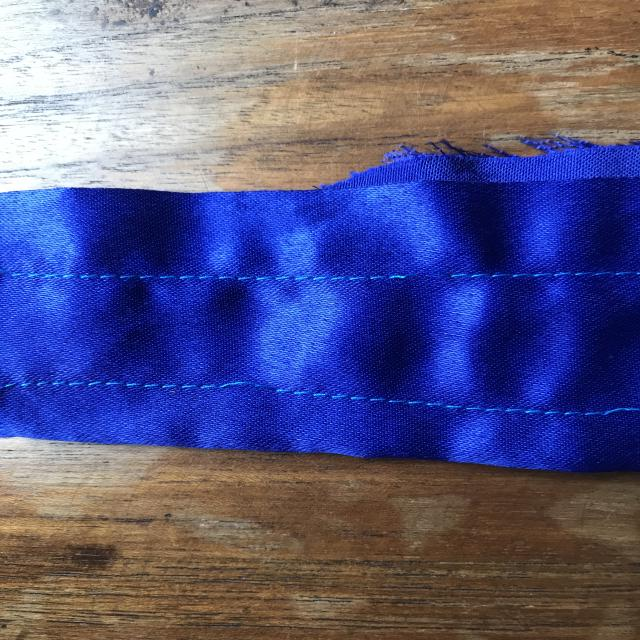broken: (370, 259, 502, 307)
good: (168, 261, 280, 299)
skip: (196, 365, 299, 411)
